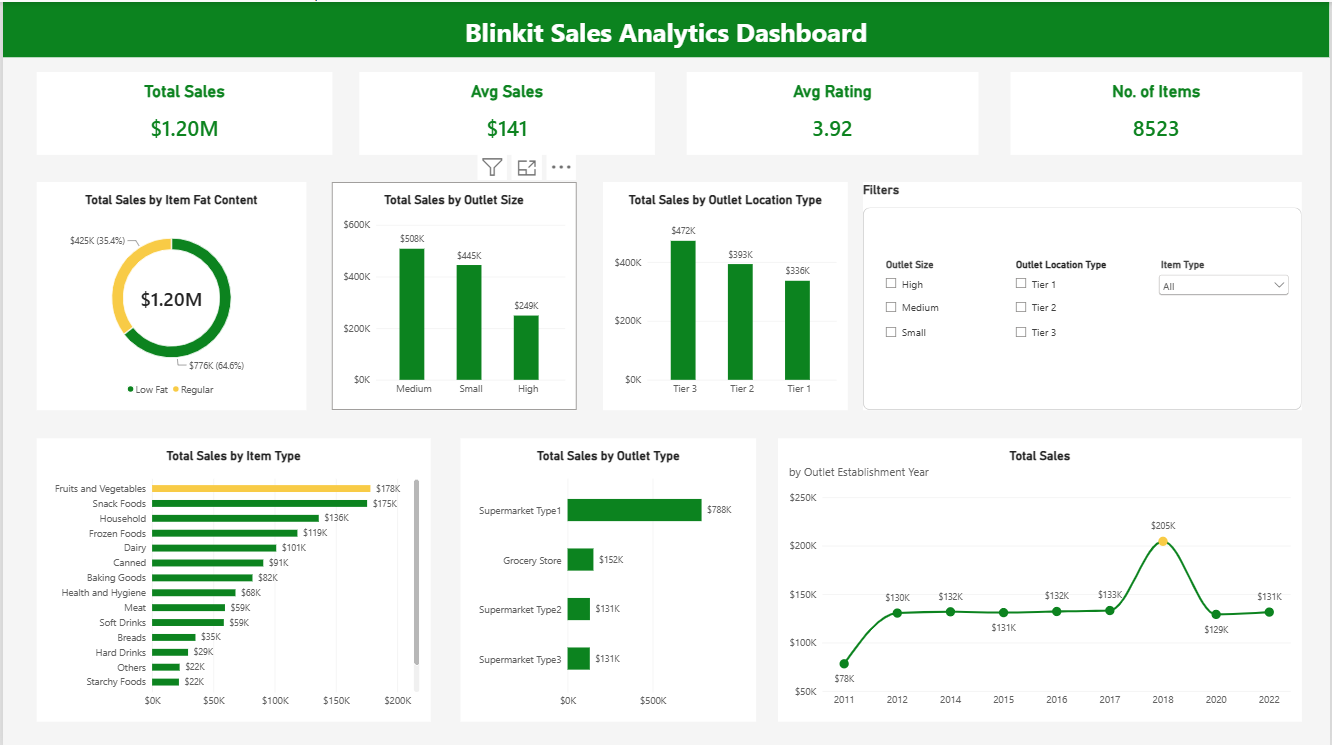

What the dashboard file says about the page in this screenshot:
{"tool":"powerbi","page":{"name":"Page 1","canvas":[1920,1080],"ordinal":0},"visuals":[{"type":"shape","title":"Filters","box":[1245,260,635,330],"z":0},{"type":"card","title":"Avg Rating","fields":{"Values":["Cleaned Data.Avg Rating"]},"box":[990,102,422,120],"z":1000},{"type":"card","title":"Avg Sales","fields":{"Values":["Cleaned Data.Avg Sales"]},"box":[516,102,428,120],"z":2000},{"type":"card","title":"No. of Items","fields":{"Values":["Cleaned Data.No of Items"]},"box":[1458,102,422,120],"z":3000},{"type":"card","title":"Total Sales","fields":{"Values":["Cleaned Data.Total Sales"]},"box":[48,102,428,120],"z":4000},{"type":"donutChart","fields":{"Category":["Cleaned Data.Item Fat Content"],"Y":["Cleaned Data.Total Sales"]},"box":[48,260,390,330],"z":5000},{"type":"clusteredColumnChart","fields":{"Category":["Cleaned Data.Outlet Size"],"Y":["Cleaned Data.Total Sales"]},"box":[476,260,354,330],"z":6000},{"type":"clusteredColumnChart","fields":{"Category":["Cleaned Data.Outlet Location Type"],"Y":["Cleaned Data.Total Sales"]},"box":[868,260,354,330],"z":7000},{"type":"clusteredBarChart","fields":{"Category":["Cleaned Data.Item Type"],"Y":["Cleaned Data.Total Sales"]},"box":[48,632,570,410],"z":8000},{"type":"clusteredBarChart","fields":{"Category":["Cleaned Data.Outlet Type"],"Y":["Cleaned Data.Total Sales"]},"box":[662,632,428,410],"z":9000},{"type":"lineChart","fields":{"Category":["Cleaned Data.Outlet Establishment Year"],"Y":["Cleaned Data.Total Sales"]},"box":[1122,632,758,410],"z":10000},{"type":"slicer","fields":{"Values":["Cleaned Data.Outlet Size"]},"box":[1270,371.4,165,160],"z":11000},{"type":"slicer","fields":{"Values":["Cleaned Data.Outlet Location Type"]},"box":[1458.6,371.4,187.5,162.5],"z":12000},{"type":"slicer","fields":{"Values":["Cleaned Data.Item Type"]},"box":[1668.6,371.4,197.5,110],"z":13000},{"type":"textbox","box":[0,0,1920,80],"z":14000}]}

Visuals, with their boxes in screenshot pixels (x1, y1, x2, y2), scaled from the page's 1920x1080 canvas onto the 1332x745 screenshot:
"Filters" shape: 864:179:1304:407
"Avg Rating" card: 687:70:980:153
"Avg Sales" card: 358:70:655:153
"No. of Items" card: 1011:70:1304:153
"Total Sales" card: 33:70:330:153
donutChart - Cleaned Data.Item Fat Content x Cleaned Data.Total Sales: 33:179:304:407
clusteredColumnChart - Cleaned Data.Outlet Size x Cleaned Data.Total Sales: 330:179:576:407
clusteredColumnChart - Cleaned Data.Outlet Location Type x Cleaned Data.Total Sales: 602:179:848:407
clusteredBarChart - Cleaned Data.Item Type x Cleaned Data.Total Sales: 33:436:429:719
clusteredBarChart - Cleaned Data.Outlet Type x Cleaned Data.Total Sales: 459:436:756:719
lineChart - Cleaned Data.Outlet Establishment Year x Cleaned Data.Total Sales: 778:436:1304:719
slicer - Cleaned Data.Outlet Size: 881:256:996:367
slicer - Cleaned Data.Outlet Location Type: 1012:256:1142:368
slicer - Cleaned Data.Item Type: 1158:256:1295:332
textbox: 0:0:1331:55
